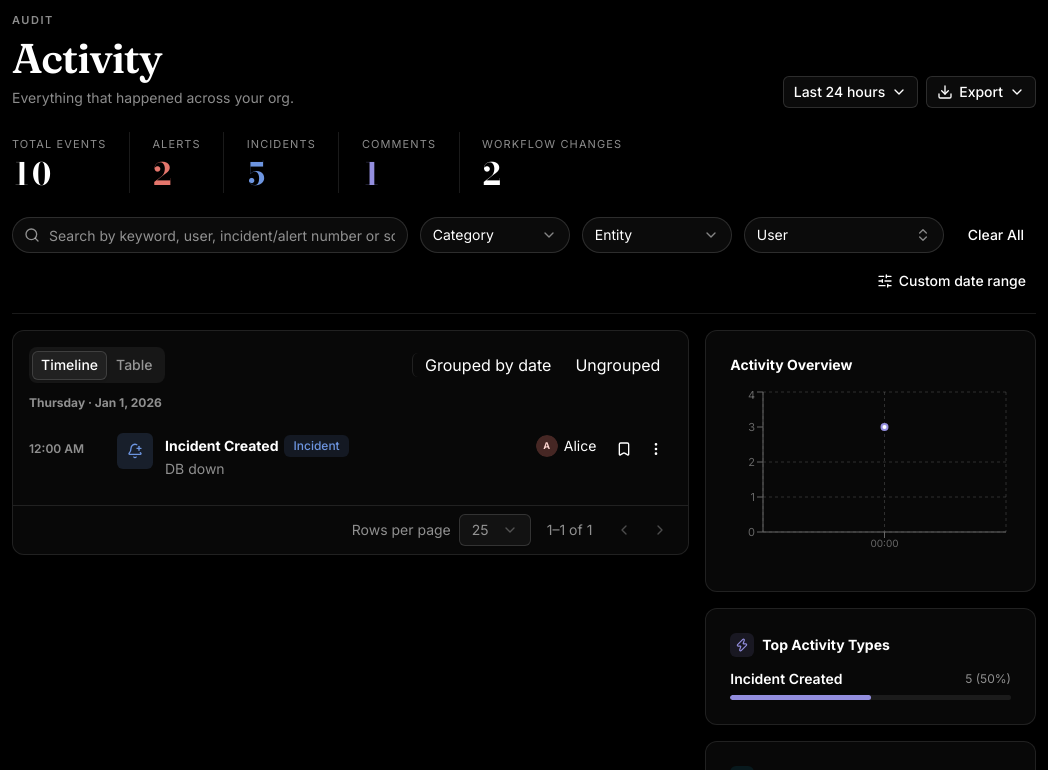
Test: ActivityPage — filters › clears all filters
Type "something" into the field with placeholder "Search by keyword, user, incident/alert number or source…".
click(210, 235); type("something")  # box [12,217,408,253]
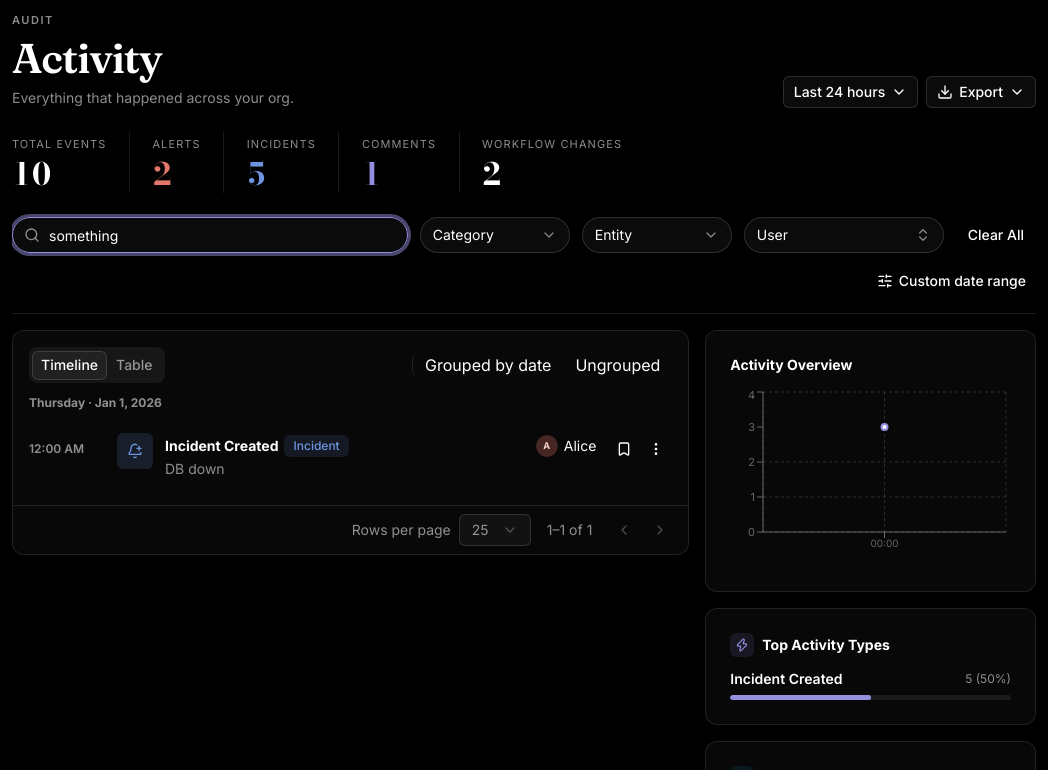
Click the button "Clear All".
click(996, 235)  # box [956,219,1036,251]
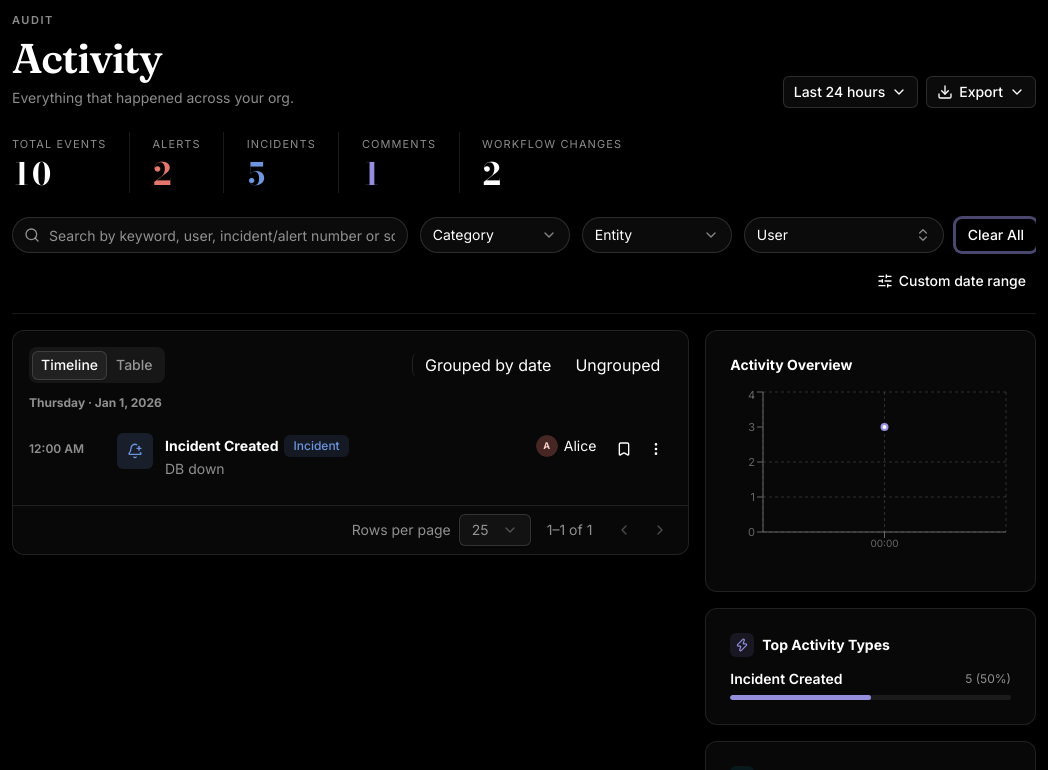
Expected: the field with placeholder "Search by keyword, user, incident/alert number or source…" is empty, [12,217,408,253]
